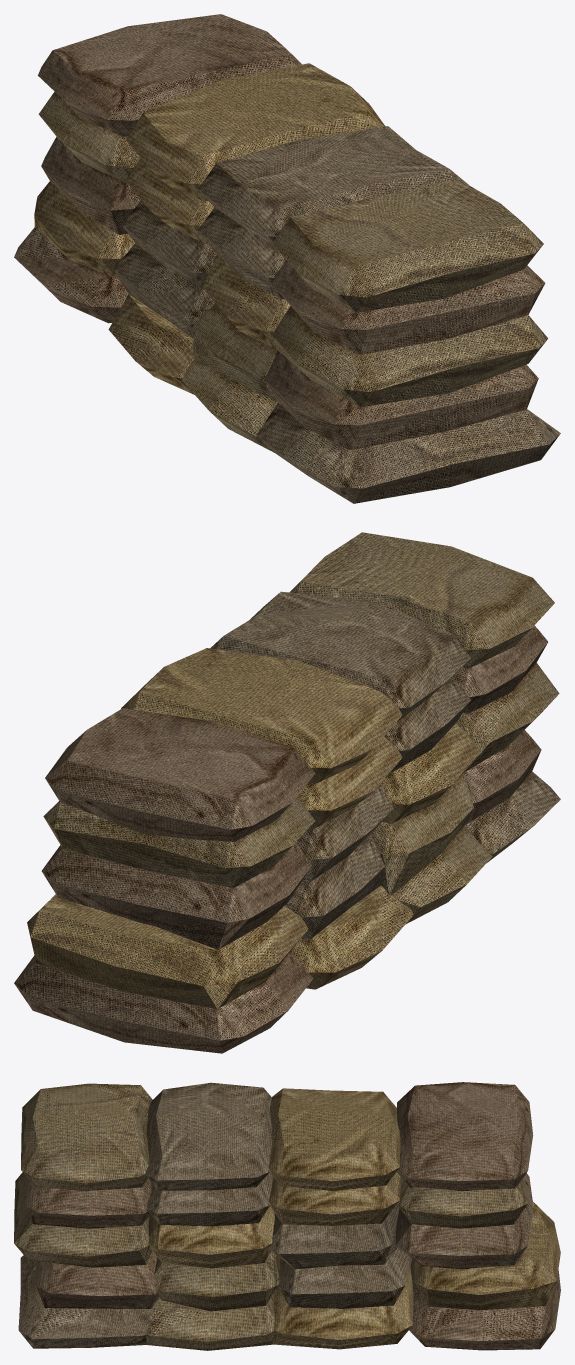
File: sacks_2.FBX
The picture shows the model from 3 angles, top to bottom: view 1: azimuth 30°, elevation 25°; view 2: azimuth 150°, elevation 25°; view 3: azimuth 270°, elevation 25°; orthographic projection. The views are drawn at different scales.
Parts seen in each view (by area): view 1: sacks_2; view 2: sacks_2; view 3: sacks_2.
Part boxes in pixels (x1,y1,x2,y2): sacks_2: (14, 14, 560, 503); sacks_2: (14, 532, 560, 1053); sacks_2: (14, 1082, 560, 1350).
Size of the model in its own units: 335 by 331 by 792.
